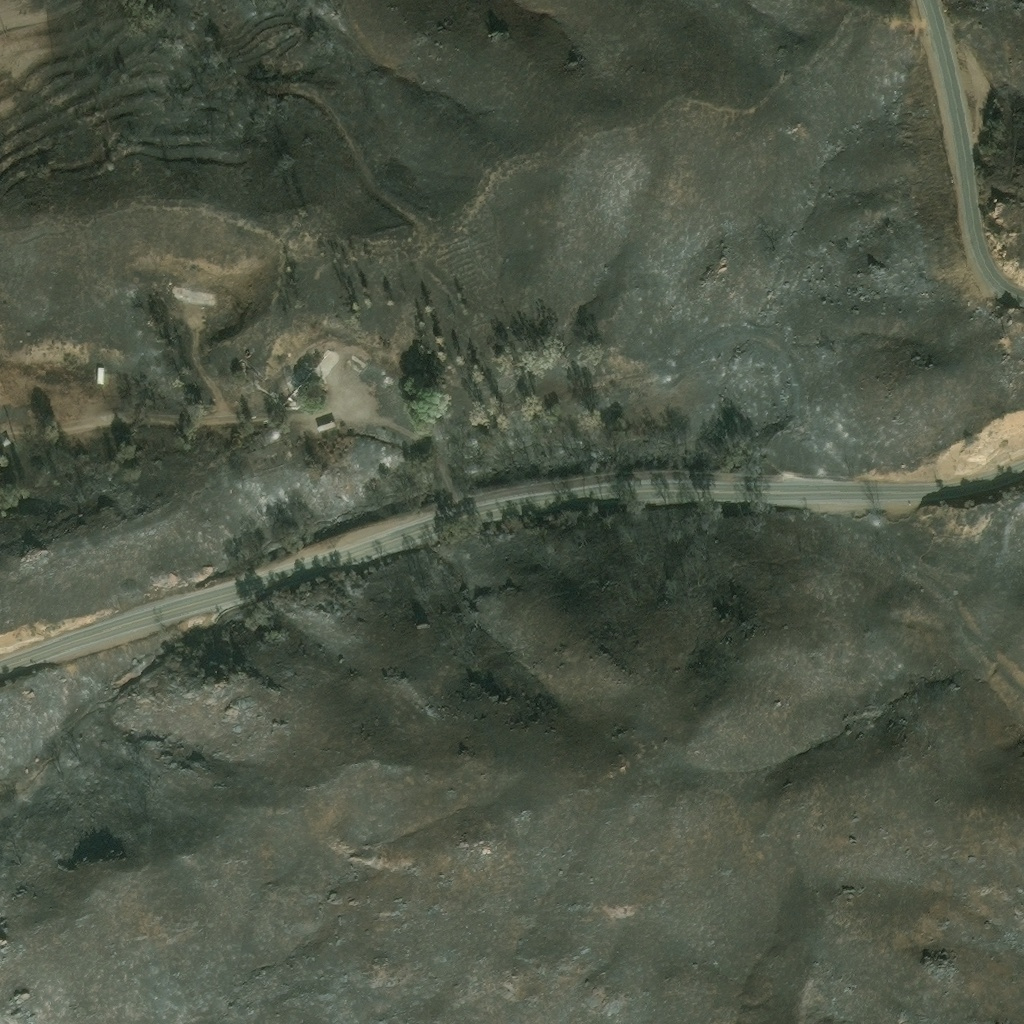0 no-damage: (316, 418, 336, 434), (96, 366, 105, 385)
